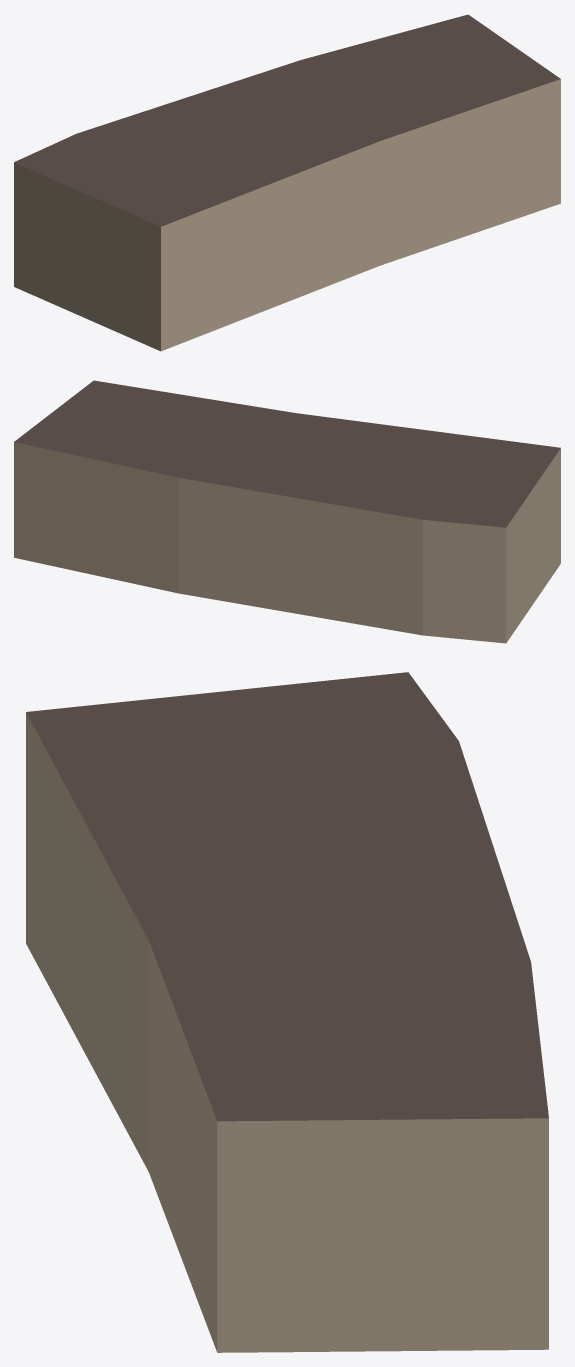
3 renders of one model, top to bottom at view 1: azimuth 30°, elevation 25°; view 2: azimuth 150°, elevation 25°; view 3: azimuth 270°, elevation 25°, orthographic. The views are drawn at different scales.
Parts seen in each view (by area): view 1: HP-w859078887; view 2: HP-w859078887; view 3: HP-w859078887.
Boxes of the visible parts, x1=… form: HP-w859078887: x1=14, y1=14, x2=560, y2=351; HP-w859078887: x1=14, y1=380, x2=560, y2=643; HP-w859078887: x1=26, y1=672, x2=548, y2=1352.
Size of the model in its own units: 37.45 by 9 by 18.43.
